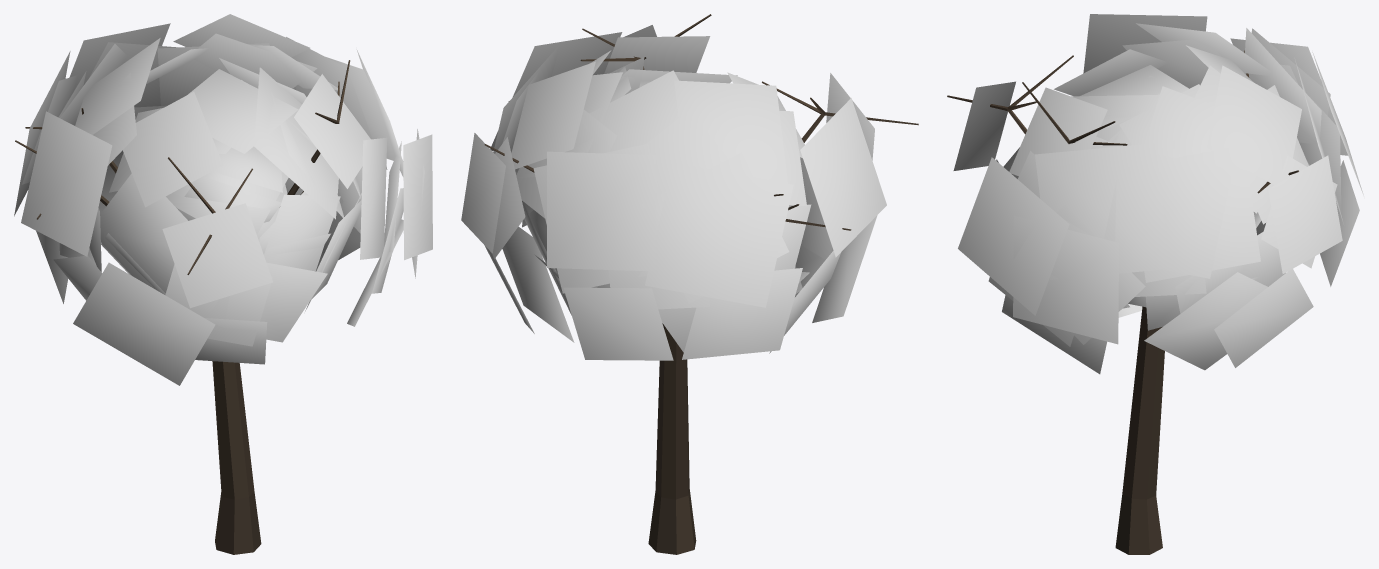
File: field_oak.glb
The picture shows the model from 3 angles, left to right: view 1: azimuth 30°, elevation 25°; view 2: azimuth 150°, elevation 25°; view 3: azimuth 270°, elevation 25°; orthographic projection. The views are drawn at different scales.
Parts seen in each view (by area): view 1: field_oak; view 2: field_oak; view 3: field_oak.
Boxes of the visible parts, x1,y1,x2,y2 form: field_oak: (14, 14, 432, 554); field_oak: (461, 14, 918, 554); field_oak: (947, 14, 1363, 554).
Size of the model in its own units: 7.19 by 9.45 by 7.2.
Materials: 2 (1 with a texture image).
